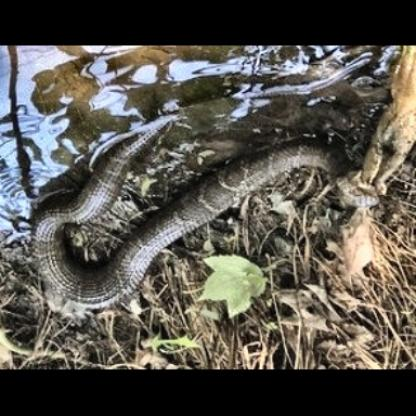Snake: (11, 76, 416, 331), (26, 80, 220, 335)
